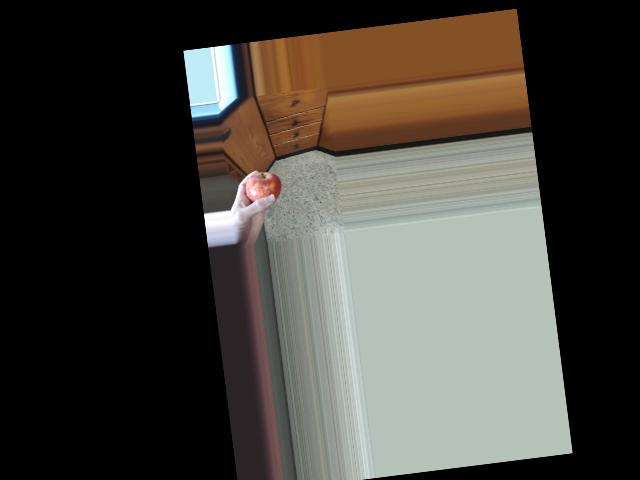apple: (238, 167, 284, 213)
